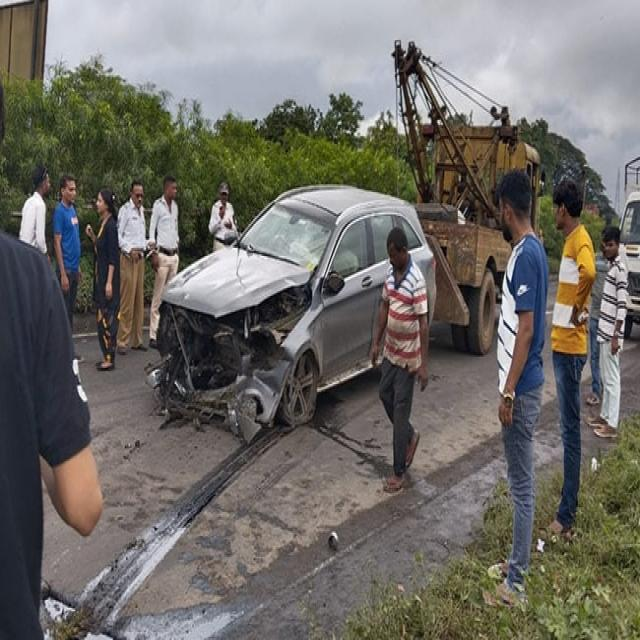accident: (151, 187, 435, 438)
truck: (394, 43, 540, 354)
